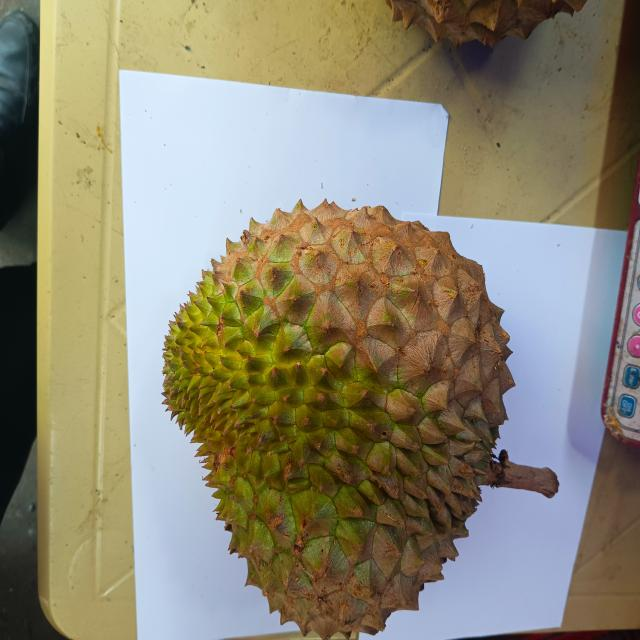mature: (163, 200, 559, 640)
